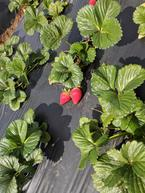red strawberry: (70, 88, 82, 104), (60, 91, 71, 105)
